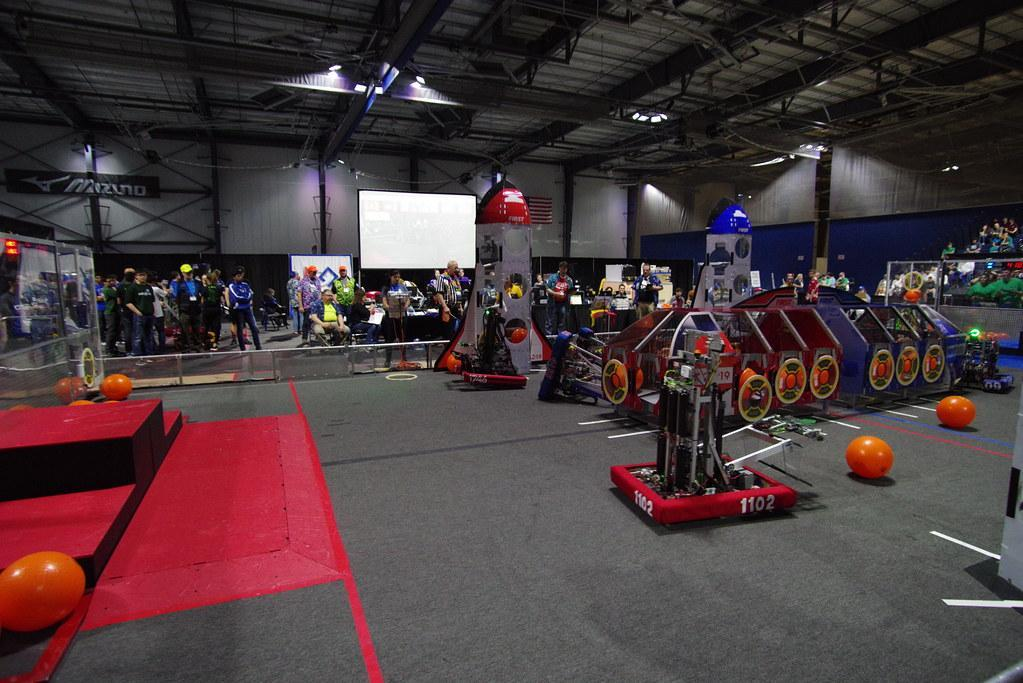robot: (606, 311, 803, 542), (535, 319, 656, 426), (456, 290, 536, 395), (952, 321, 1019, 406)
